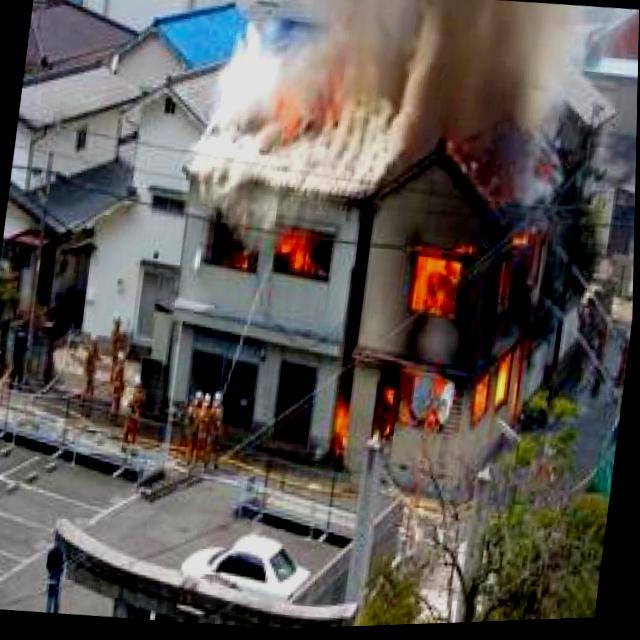helmet: (326, 187, 568, 477), (194, 204, 347, 289)
no_helmet: (191, 0, 576, 230)
